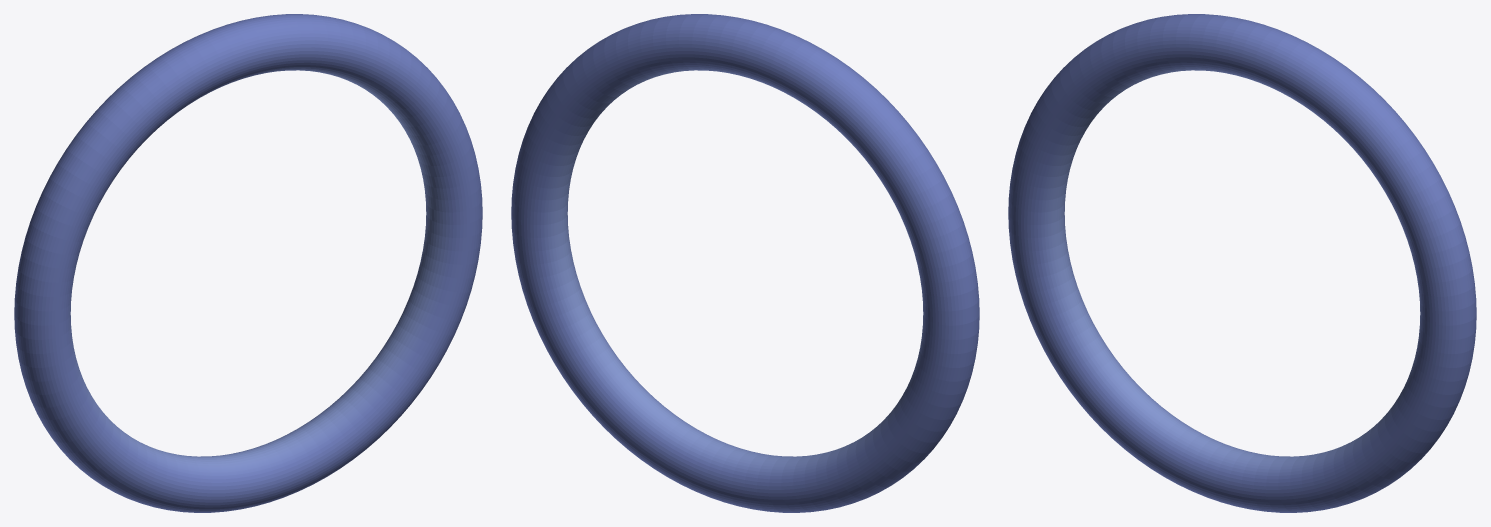
3 views of the same model, side by side, from view 1: azimuth 30°, elevation 25°; view 2: azimuth 150°, elevation 25°; view 3: azimuth 330°, elevation 25° (orthographic).
Visible parts, largest first — view 1: world; view 2: world; view 3: world.
Boxes of the visible parts, box(x1,y1,x2,y2) form: world: box(14, 14, 482, 512); world: box(511, 14, 979, 512); world: box(1008, 14, 1476, 512).
Size of the model in its own units: 23.87 by 23.87 by 2.53.
